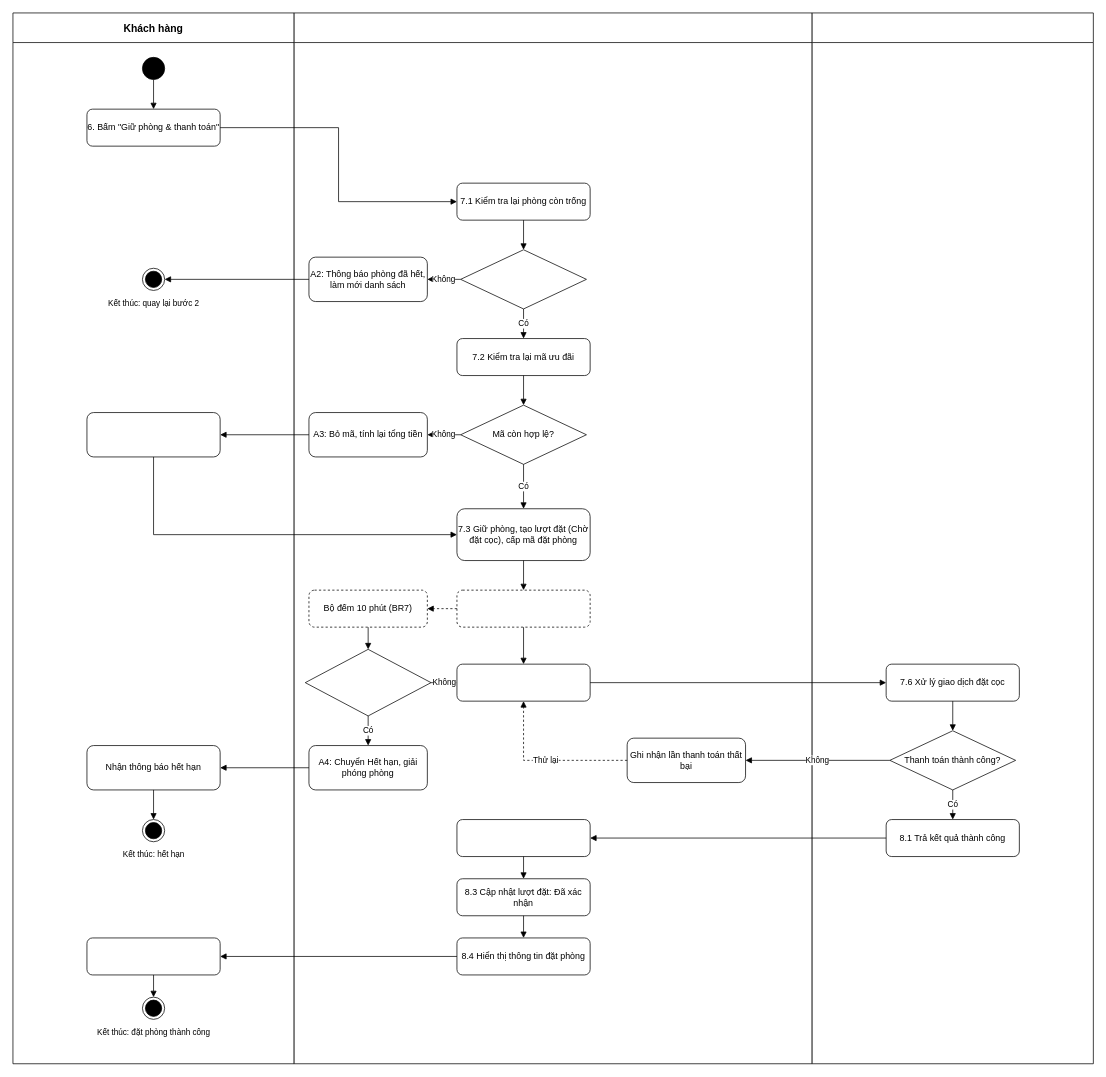
Some shapes in this 1106 by 1077 pixel diagram are drawn without their labels. Each missing label, with the box of its shape:
7.4 Bắt đầu bộ đếm 10 phút (expires_at): (456, 589, 590, 627)
7.5 Gửi yêu cầu thanh toán cọc: (456, 663, 590, 701)
8.2 Ghi nhận giao dịch đặt cọc: (456, 819, 590, 857)
Cổng thanh toán: (811, 12, 1093, 1064)
Hết 10 phút?: (305, 649, 431, 716)
Hệ thống: (293, 12, 812, 1064)
Phòng còn trống?: (460, 249, 586, 309)
Xem thông tin đặt phòng: (86, 937, 220, 975)
Xác nhận lại tổng tiền mới: (86, 412, 220, 457)
